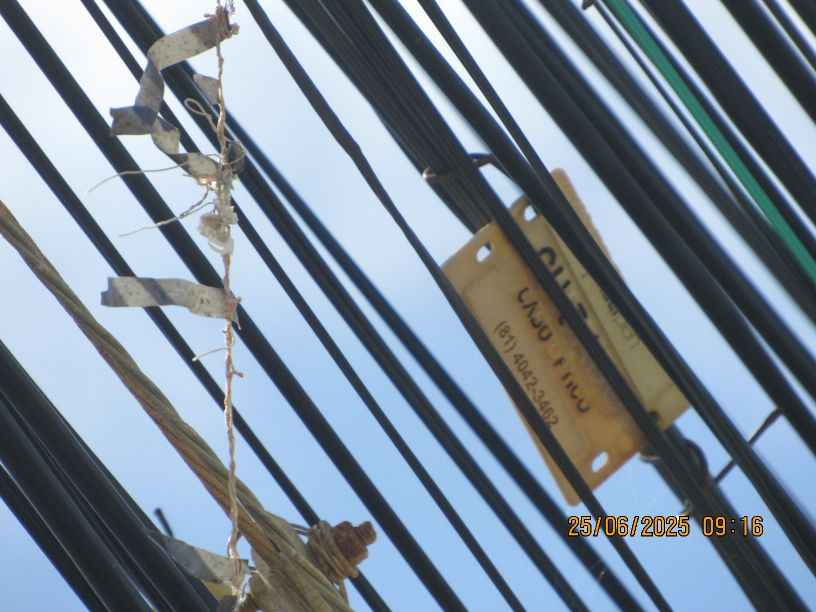fibra_optica: (424, 143, 711, 523)
